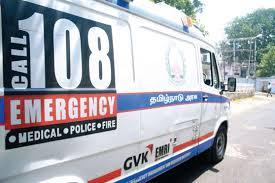ER: (1, 0, 231, 183)
